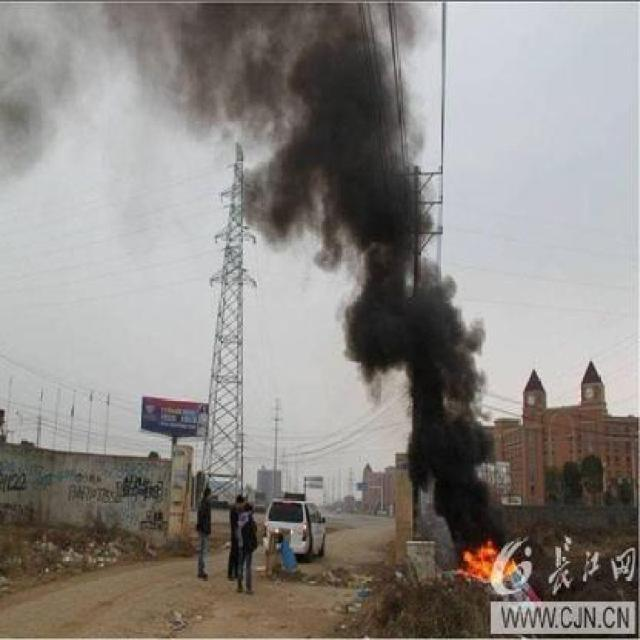Fire: (456, 540, 512, 588)
Smoke: (196, 11, 498, 535)
